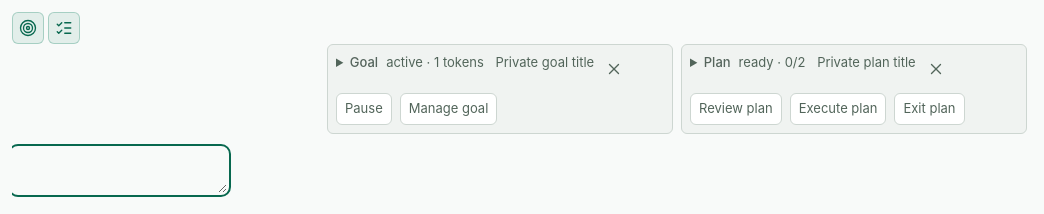
Test case: ExtensionUIPanel › keeps composer focus during pointer hide and reopen instead of treating it as keyboard navigation
Press the mouse on the button named "Hide Goal" next to "Private goal title" at coordinates (614, 69), box [598,53,630,85]
Click the button named "Hide Goal" next to "Private goal title" at coordinates (614, 69), box [598,53,630,85]
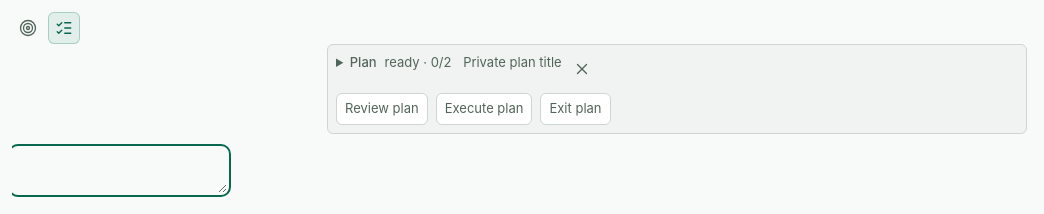
Press the mouse on the button named "Show Goal" at coordinates (28, 28), box [12,12,44,44]
Click the button named "Show Goal" at coordinates (28, 28), box [12,12,44,44]
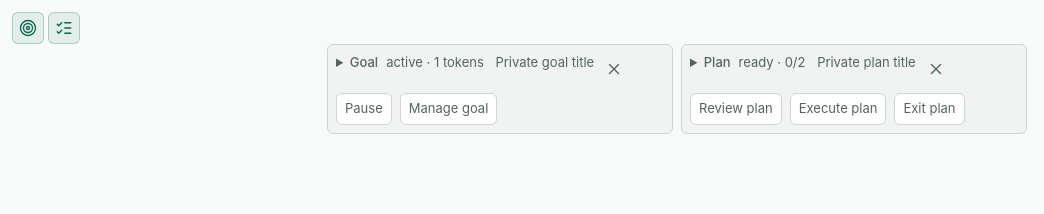
expect the element with test id "workflow-goal" is shown: met, box [327,44,673,134]
